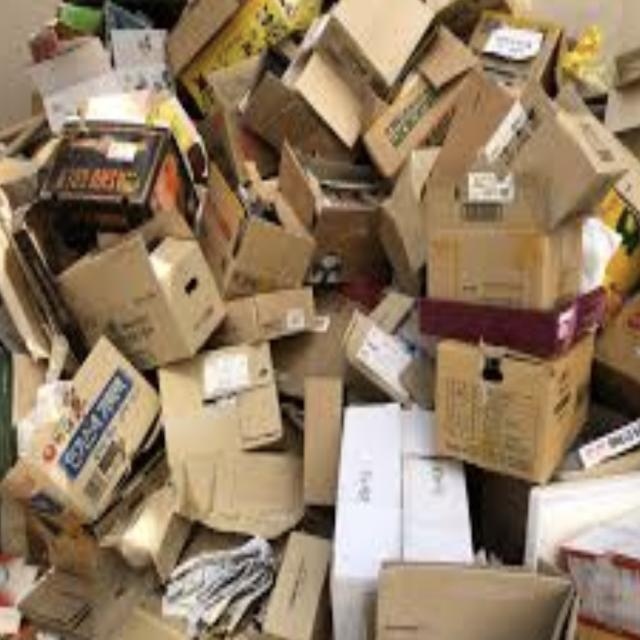biodegradable: (49, 186, 228, 379), (428, 335, 600, 489), (32, 329, 162, 522), (192, 131, 330, 302), (163, 332, 306, 494), (421, 202, 588, 322)
